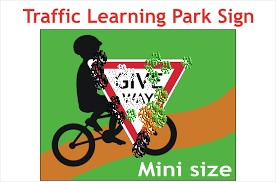giveway: (86, 58, 190, 151), (103, 81, 172, 153), (91, 60, 155, 126), (131, 60, 180, 125)
